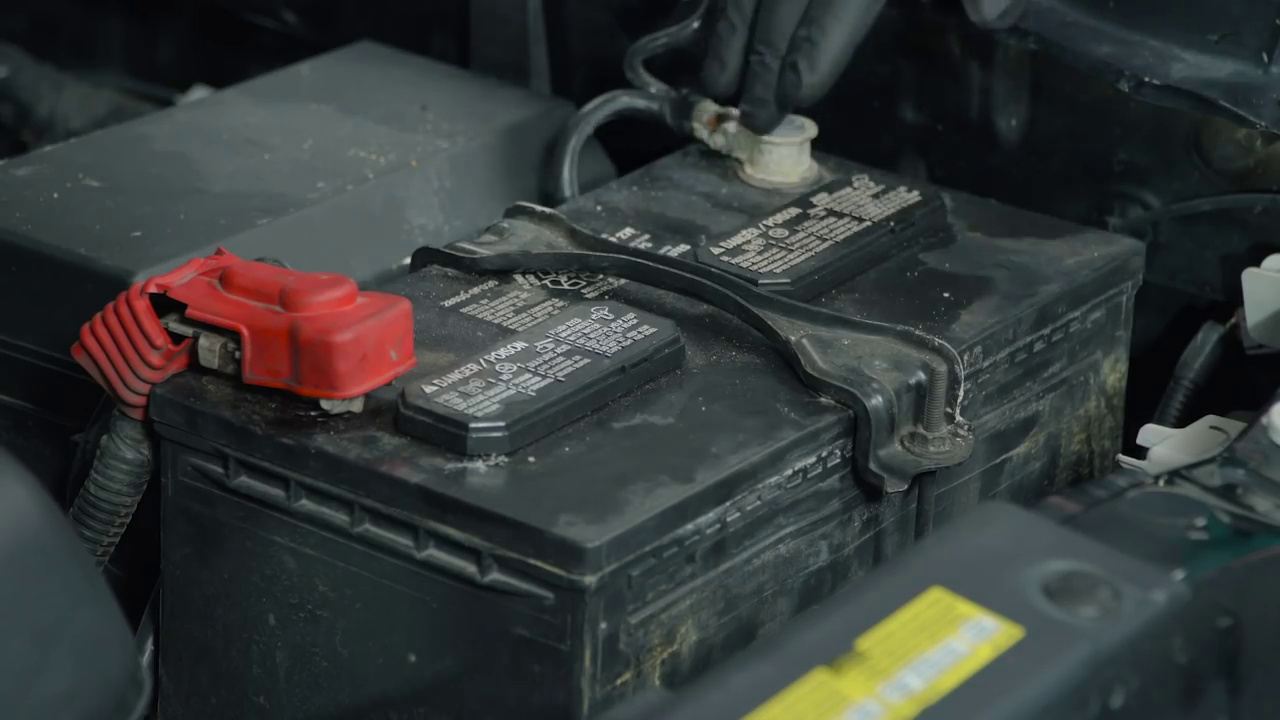battery: (112, 94, 1150, 562)
neg_touched: (623, 8, 887, 197)
pos_connected: (56, 213, 415, 442)
